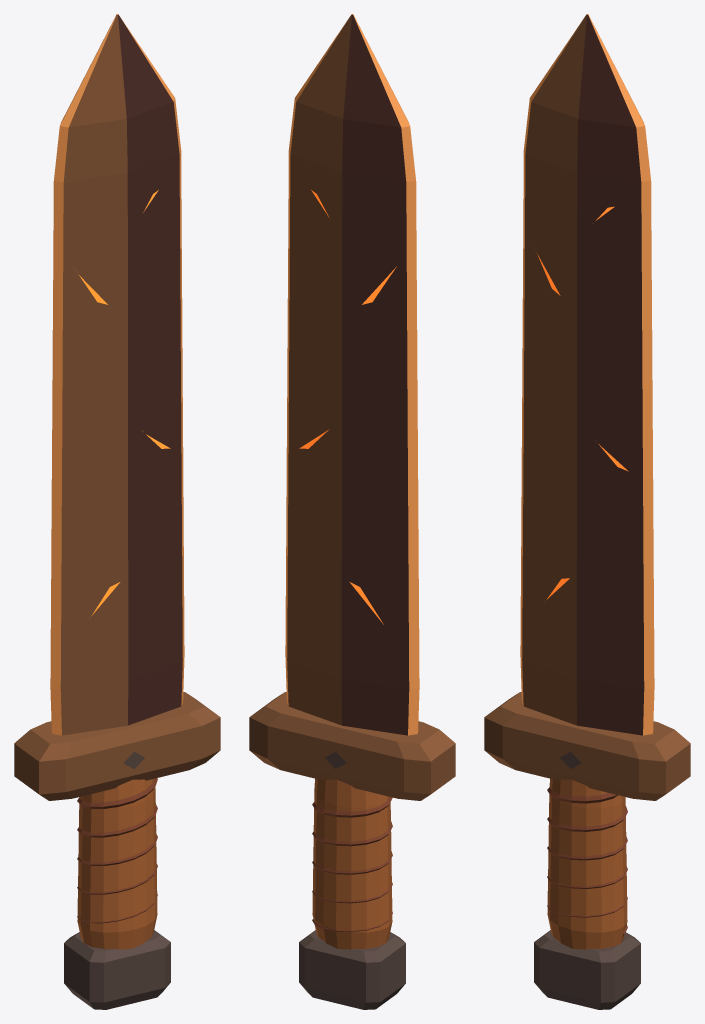
Rendered from e8e-sword-hot-mess-finish.glb.
3 views of the same model, side by side, from view 1: azimuth 30°, elevation 25°; view 2: azimuth 150°, elevation 25°; view 3: azimuth 330°, elevation 25° (orthographic).
Visible parts, largest first — view 1: WSC-GEAR-001 Sword | Inventory pivot; view 2: WSC-GEAR-001 Sword | Inventory pivot; view 3: WSC-GEAR-001 Sword | Inventory pivot.
Boxes of the visible parts, x1=… form: WSC-GEAR-001 Sword | Inventory pivot: x1=14, y1=14, x2=220, y2=1009; WSC-GEAR-001 Sword | Inventory pivot: x1=249, y1=14, x2=455, y2=1009; WSC-GEAR-001 Sword | Inventory pivot: x1=484, y1=14, x2=690, y2=1009.
Size of the model in its own units: 0.214 by 1.1 by 0.07.
